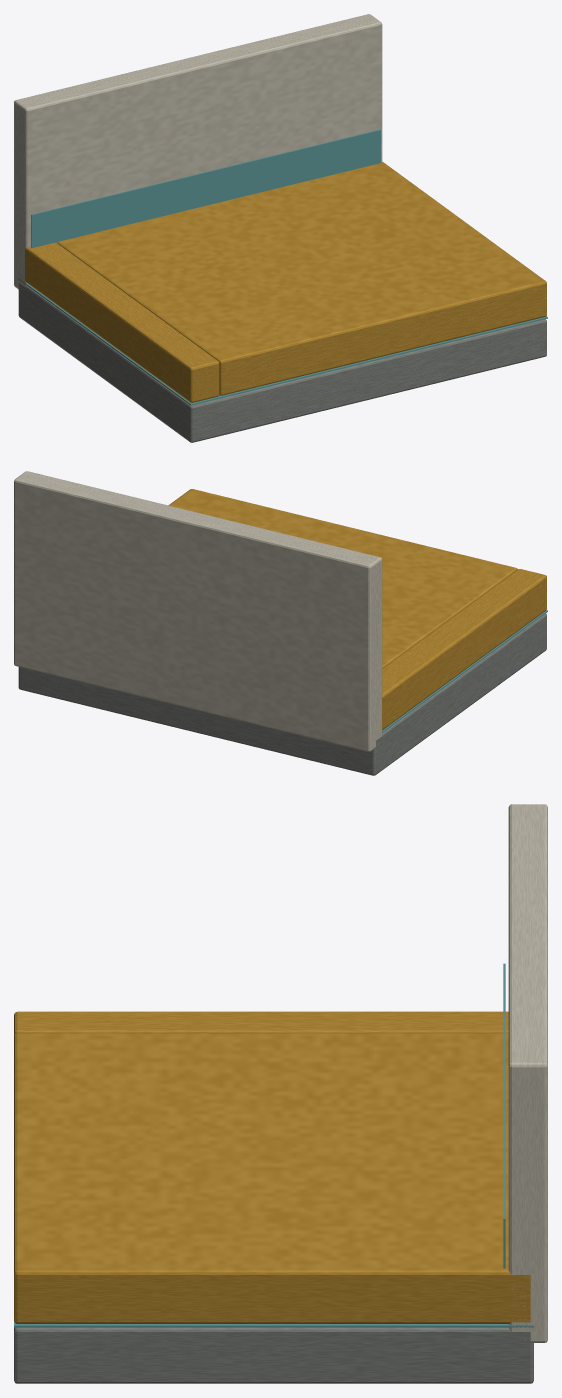
Rendered from modell.glb.
The picture shows the model from 3 angles, top to bottom: view 1: azimuth 30°, elevation 25°; view 2: azimuth 150°, elevation 25°; view 3: azimuth 270°, elevation 25°; orthographic projection. The views are drawn at different scales.
Parts seen in each view (by area): view 1: g03-daemmung_daemmung, g03-wand_, g03-untergrund_tragwerk, g03-anschluss_luftdichtheit, g03-daemmanschluss_daemmung, g03-luftdichtheit_luftdichtheit; view 2: g03-wand_, g03-untergrund_tragwerk, g03-daemmung_daemmung, g03-daemmanschluss_daemmung, g03-luftdichtheit_luftdichtheit; view 3: g03-daemmung_daemmung, g03-untergrund_tragwerk, g03-wand_, g03-daemmanschluss_daemmung, g03-luftdichtheit_luftdichtheit, g03-anschluss_luftdichtheit.
Part boxes in pixels (bbox=[...]): g03-daemmung_daemmung: bbox=[57, 161, 546, 395]; g03-wand_: bbox=[14, 14, 382, 289]; g03-untergrund_tragwerk: bbox=[18, 283, 546, 442]; g03-anschluss_luftdichtheit: bbox=[31, 129, 380, 247]; g03-daemmanschluss_daemmung: bbox=[25, 242, 219, 402]; g03-luftdichtheit_luftdichtheit: bbox=[17, 278, 547, 405]; g03-wand_: bbox=[14, 471, 382, 751]; g03-untergrund_tragwerk: bbox=[18, 613, 546, 775]; g03-daemmung_daemmung: bbox=[168, 489, 517, 668]; g03-daemmanschluss_daemmung: bbox=[382, 569, 546, 730]; g03-luftdichtheit_luftdichtheit: bbox=[380, 610, 547, 733]; g03-daemmung_daemmung: bbox=[14, 1033, 530, 1323]; g03-untergrund_tragwerk: bbox=[14, 1327, 533, 1383]; g03-wand_: bbox=[508, 804, 547, 1342]; g03-daemmanschluss_daemmung: bbox=[14, 1011, 508, 1035]; g03-luftdichtheit_luftdichtheit: bbox=[14, 1321, 533, 1327]; g03-anschluss_luftdichtheit: bbox=[503, 963, 505, 1268].
Size of the model in its own units: 2.2 by 1.26 by 1.9.
4 materials, 3 textured.
